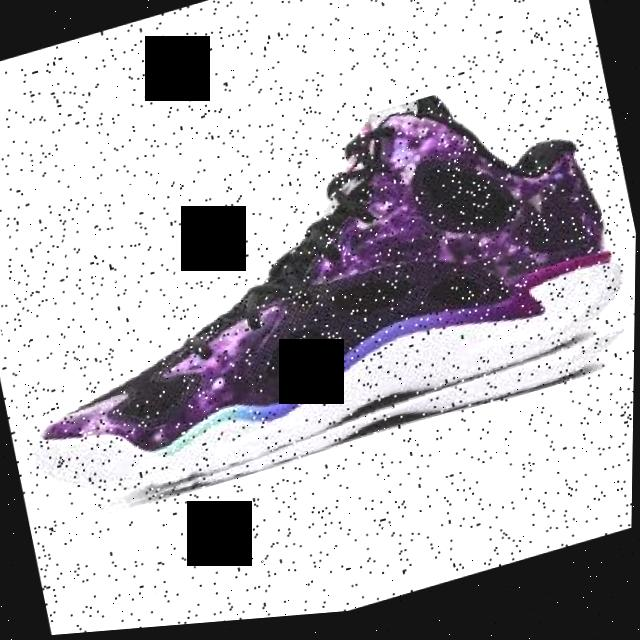shoe: (0, 57, 639, 539)
